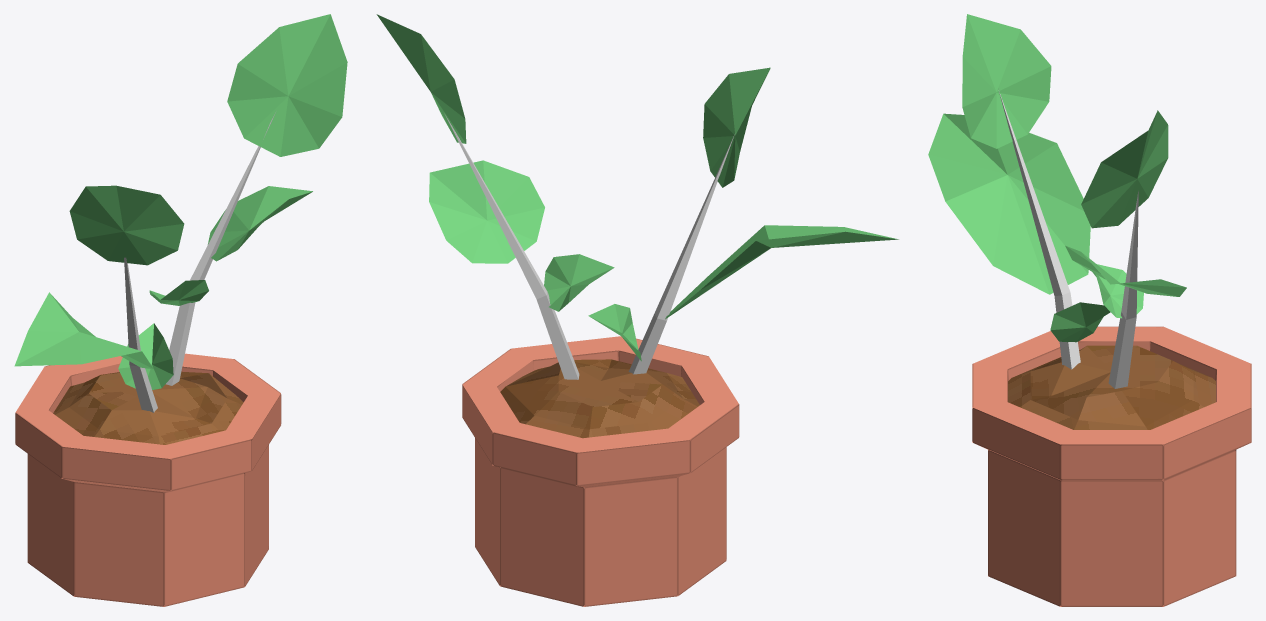
Rendered from Planta 1.fbx.
The picture shows the model from 3 angles, left to right: view 1: azimuth 30°, elevation 25°; view 2: azimuth 150°, elevation 25°; view 3: azimuth 270°, elevation 25°; orthographic projection. The views are drawn at different scales.
Visible parts, largest first — view 1: Vaso, Folha1, Terra, Folha6, Folha2, Folha3, Caule1, Folha5, Caule2, Folha4; view 2: Vaso, Terra, Folha3, Folha6, Folha2, Folha1, Caule1, Caule2, Folha4, Folha5; view 3: Vaso, Folha2, Terra, Folha6, Folha1, Caule2, Caule1, Folha5, Folha3, Folha4.
Boxes of the visible parts, x1=… form: Vaso: x1=15, y1=353, x2=281, y2=606; Folha1: x1=227, y1=14, x2=347, y2=156; Terra: x1=53, y1=371, x2=243, y2=444; Folha6: x1=69, y1=185, x2=184, y2=265; Folha2: x1=14, y1=292, x2=153, y2=369; Folha3: x1=207, y1=186, x2=312, y2=261; Caule1: x1=166, y1=112, x2=275, y2=385; Folha5: x1=118, y1=323, x2=173, y2=389; Caule2: x1=124, y1=257, x2=157, y2=412; Folha4: x1=149, y1=280, x2=208, y2=305; Vaso: x1=462, y1=336, x2=739, y2=606; Terra: x1=500, y1=359, x2=699, y2=438; Folha3: x1=429, y1=160, x2=544, y2=263; Folha6: x1=703, y1=67, x2=770, y2=187; Folha2: x1=665, y1=225, x2=898, y2=319; Folha1: x1=376, y1=14, x2=466, y2=143; Caule1: x1=445, y1=115, x2=579, y2=379; Caule2: x1=628, y1=134, x2=734, y2=374; Folha4: x1=544, y1=254, x2=614, y2=311; Folha5: x1=588, y1=304, x2=641, y2=361; Vaso: x1=972, y1=326, x2=1251, y2=606; Folha2: x1=928, y1=113, x2=1090, y2=294; Terra: x1=1008, y1=345, x2=1215, y2=429; Folha6: x1=962, y1=14, x2=1051, y2=148; Folha1: x1=1081, y1=110, x2=1168, y2=228; Caule2: x1=998, y1=90, x2=1080, y2=369; Caule1: x1=1108, y1=191, x2=1138, y2=388; Folha5: x1=1050, y1=302, x2=1110, y2=342; Folha3: x1=1065, y1=245, x2=1186, y2=296; Folha4: x1=1092, y1=264, x2=1143, y2=318.
Bounding box in the file's own units: 210 × 236 × 130.
3 materials, 3 textured.
